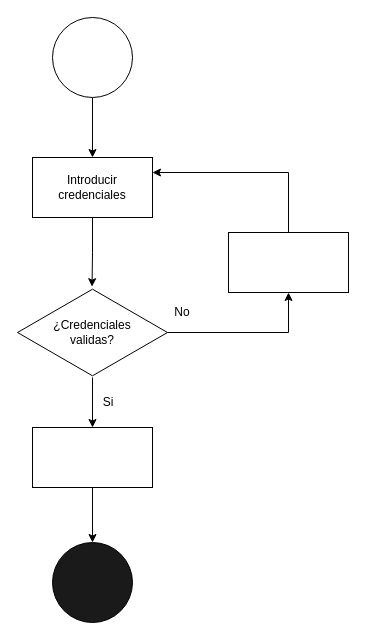
The diagram is 366 pixels wide and 640 high, and some of its shapes have lost their labels. Here are the shapes that lost their labels. From the top down, the centre of each, then its label:
At point (288, 262): "Mostrar mensaje de error".
At point (92, 457): "Permitir acceso al sistema".
